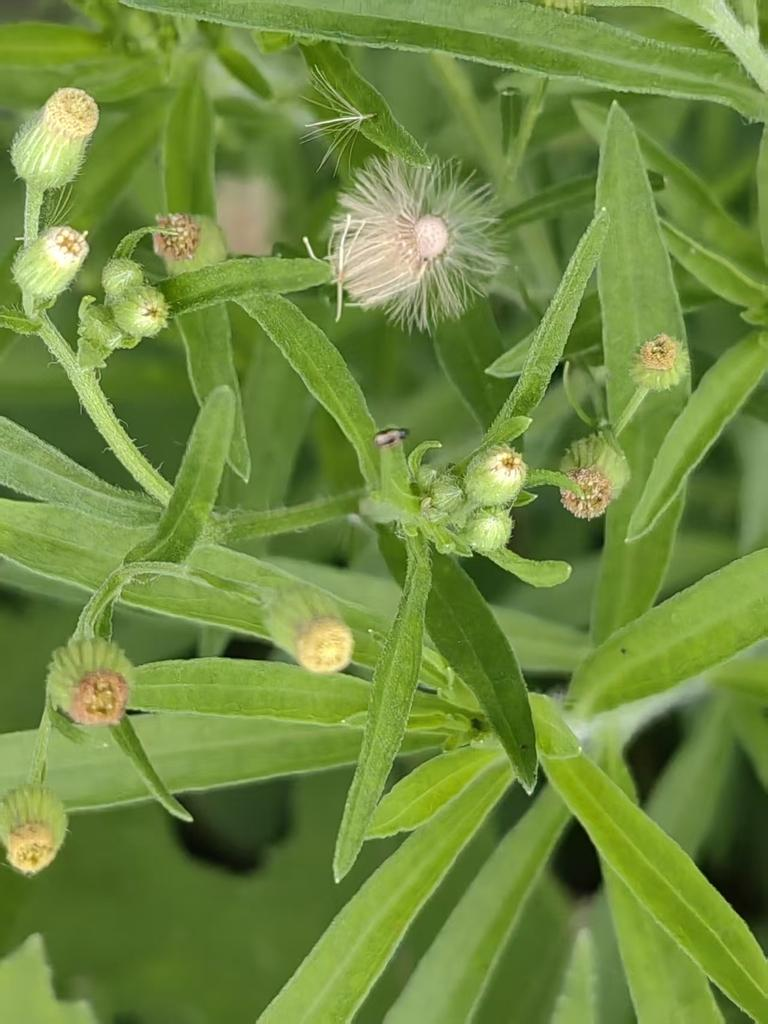flea_beetle: (360, 409, 418, 459)
